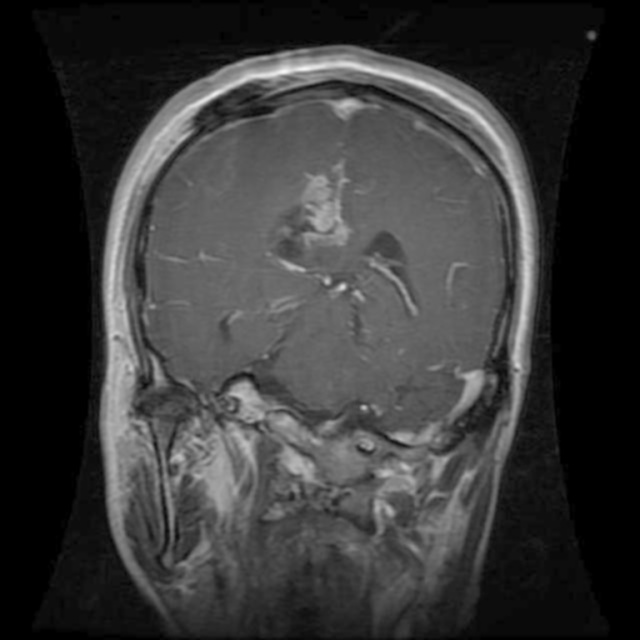pituitary tumor: (294, 166, 346, 246)
